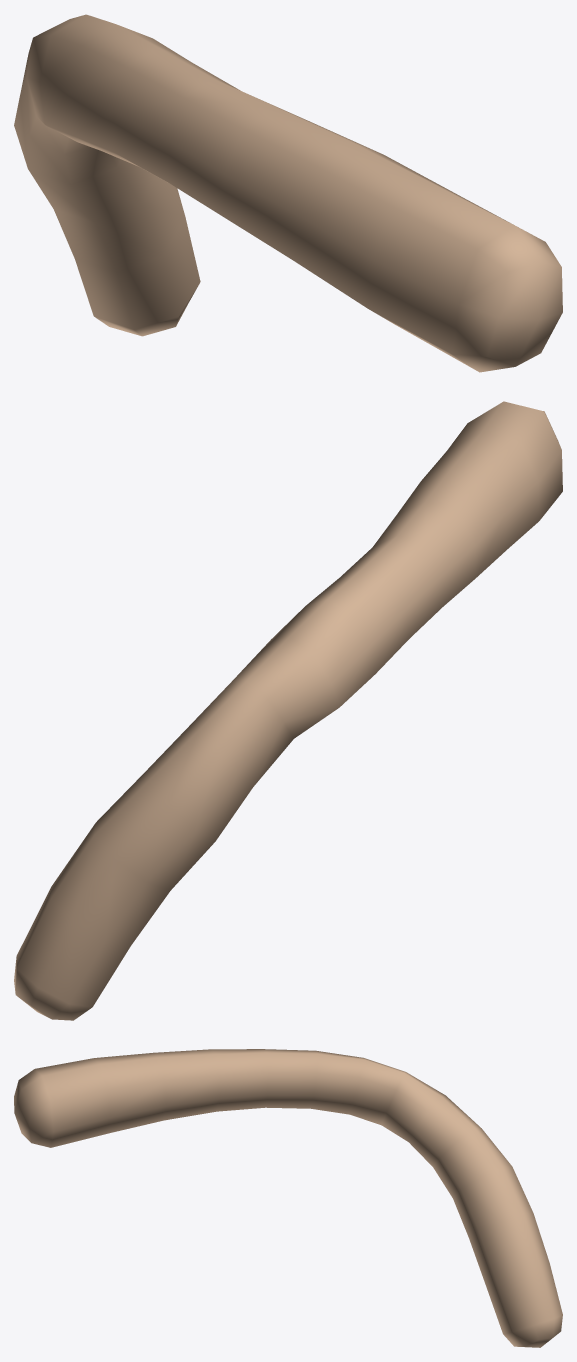
3 views of the same model, one above another, from view 1: azimuth 30°, elevation 25°; view 2: azimuth 150°, elevation 25°; view 3: azimuth 270°, elevation 25° (orthographic). The views are drawn at different scales.
Parts seen in each view (by area): view 1: 左侧趾长屈肌腱鞘; view 2: 左侧趾长屈肌腱鞘; view 3: 左侧趾长屈肌腱鞘.
Boxes of the visible parts, left/top/right/bottom form: 左侧趾长屈肌腱鞘: left=14, top=14, right=562, bottom=372; 左侧趾长屈肌腱鞘: left=14, top=401, right=562, bottom=1020; 左侧趾长屈肌腱鞘: left=14, top=1049, right=562, bottom=1347.
Bounding box in the file's own units: 0.031 × 0.0495 × 0.098.
